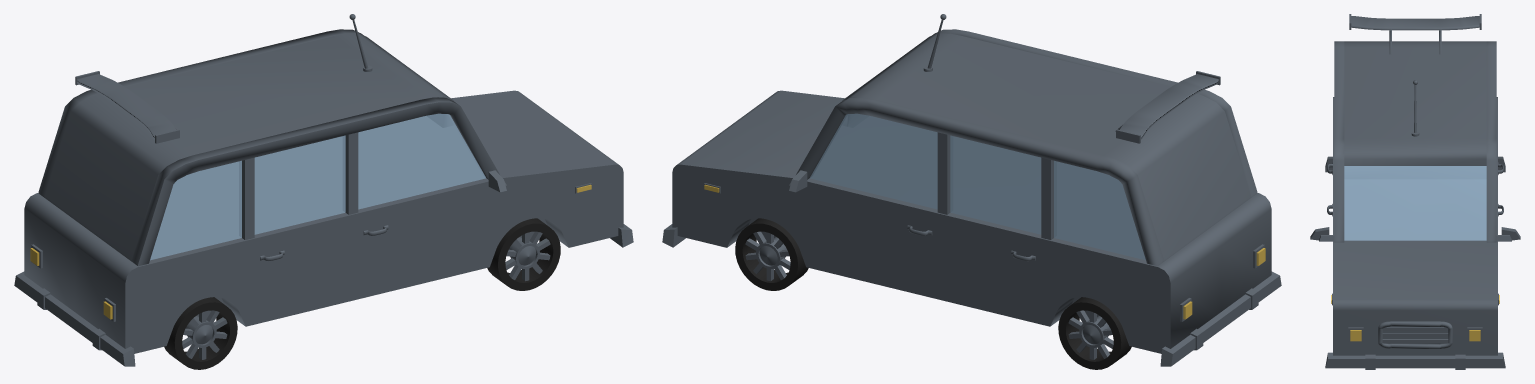
The model's file is wagon.glb.
3 views of the same model, side by side, from view 1: azimuth 30°, elevation 25°; view 2: azimuth 150°, elevation 25°; view 3: azimuth 270°, elevation 25° (orthographic). The views are drawn at different scales.
Parts seen in each view (by area): view 1: StationWagon, Roof, Glass, Frame (×4), Tire (×2), Spline, BackBumper, Rim (×2); view 2: StationWagon, Roof, Glass, Frame (×4), Tire (×2), Spline, BackBumper, Rim (×2); view 3: StationWagon, Roof, Glass, Frame (×6), FrontBumper, Spline, FrontLights (×2).
Boxes of the visible parts, x1,y1,x2,y2 form: StationWagon: (24,90,623,353); Roof: (45,33,453,261); Glass: (150,113,485,260); Frame (×4): (38,29,499,266); Tire (×2): (164,218,560,369); Spline: (77,74,175,139); BackBumper: (14,271,135,366); Rim (×2): (187,240,539,347); StationWagon: (672,90,1271,353); Roof: (842,33,1250,261); Glass: (810,113,1145,260); Frame (×4): (796,29,1257,266); Tire (×2): (735,218,1131,369); Spline: (1120,74,1218,139); BackBumper: (1160,271,1281,366); Rim (×2): (756,240,1108,347); StationWagon: (1333,97,1497,355); Roof: (1344,41,1486,178); Glass: (1344,166,1486,240); Frame (×6): (1334,41,1496,348); FrontBumper: (1325,352,1505,368); Spline: (1351,16,1479,30); FrontLights (×2): (1348,327,1482,342).
Bounding box in the file's own units: 4.75 × 2.39 × 2.07.
